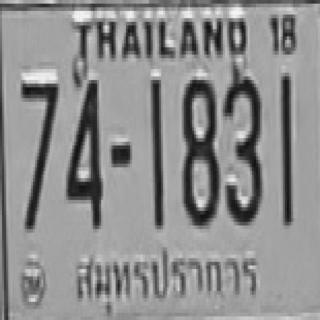N01: (279, 71, 291, 224), (150, 76, 162, 226)
N03: (223, 73, 260, 222)
N04: (64, 76, 101, 226)
N07: (19, 78, 58, 227)
N08: (182, 76, 217, 222)
P57: (68, 244, 267, 304)
